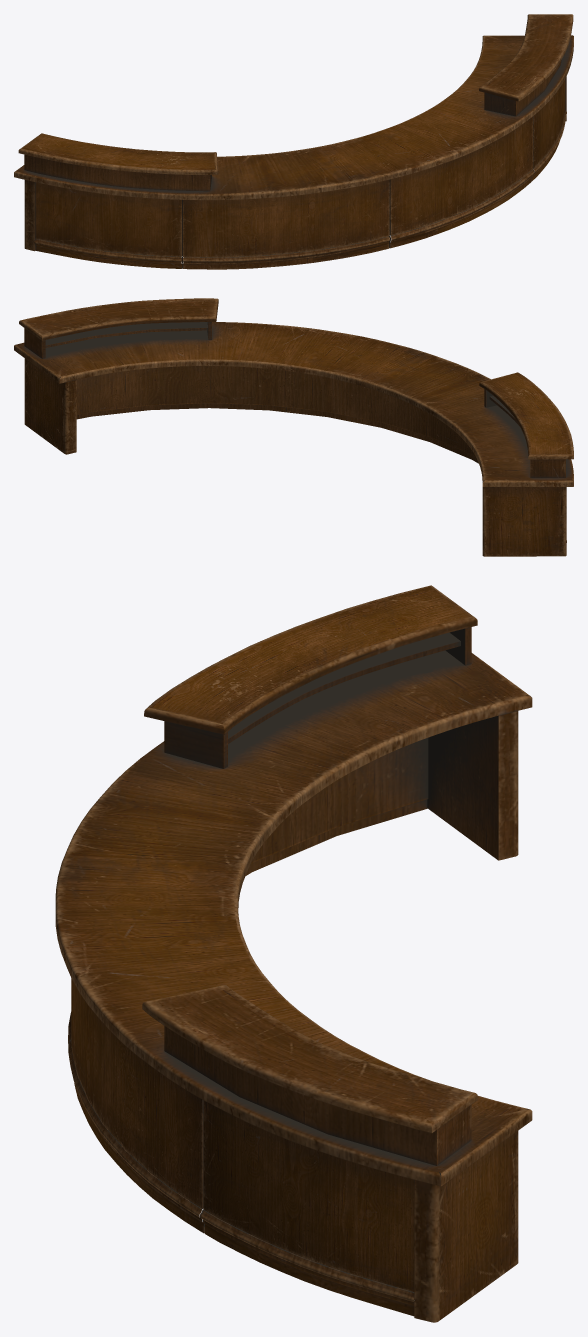
File: secretary_desk_-_20mb (1).glb
3 renders of one model, top to bottom at view 1: azimuth 30°, elevation 25°; view 2: azimuth 150°, elevation 25°; view 3: azimuth 270°, elevation 25°, orthographic. The views are drawn at different scales.
Visible parts, largest first — view 1: Secretary_desk; view 2: Secretary_desk; view 3: Secretary_desk.
Part boxes in pixels (x1,y1,x2,y2): Secretary_desk: [14, 14, 573, 269]; Secretary_desk: [14, 298, 573, 556]; Secretary_desk: [55, 585, 532, 1322].
Bounding box in the file's own units: 7.22 × 1.26 × 2.66.
1 material, 1 textured.
